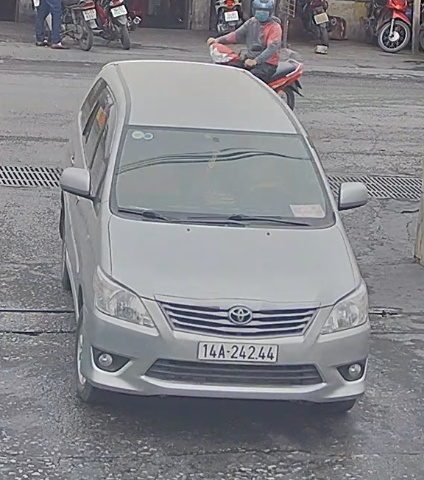vehicle plate: (194, 331, 290, 366)
